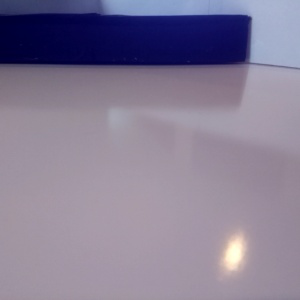zone: (1, 13, 252, 66)
